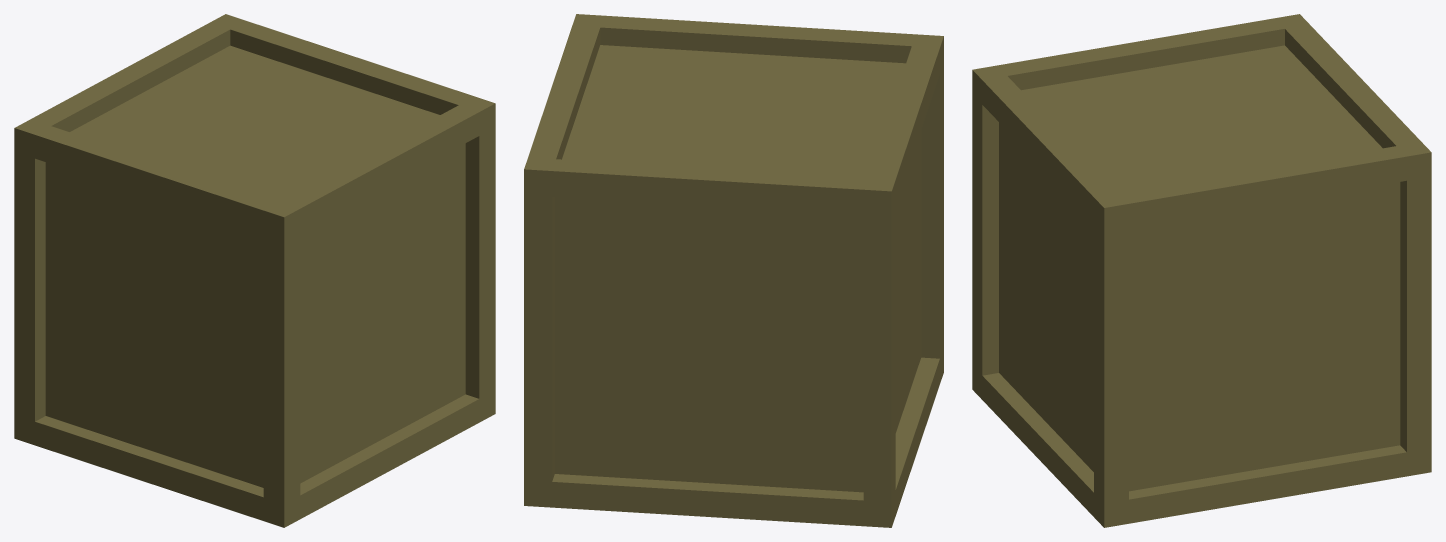
The model's file is skrzynka mala.fbx.
The picture shows the model from 3 angles, left to right: view 1: azimuth 30°, elevation 25°; view 2: azimuth 150°, elevation 25°; view 3: azimuth 270°, elevation 25°; orthographic projection. The views are drawn at different scales.
Parts seen in each view (by area): view 1: skszynka kwadrat bez tekstury.005; view 2: skszynka kwadrat bez tekstury.005; view 3: skszynka kwadrat bez tekstury.005.
Boxes of the visible parts, x1,y1,x2,y2 form: skszynka kwadrat bez tekstury.005: (14, 14, 495, 527); skszynka kwadrat bez tekstury.005: (524, 14, 943, 527); skszynka kwadrat bez tekstury.005: (972, 14, 1431, 527).
Bounding box in the file's own units: 260 × 200 × 260.
